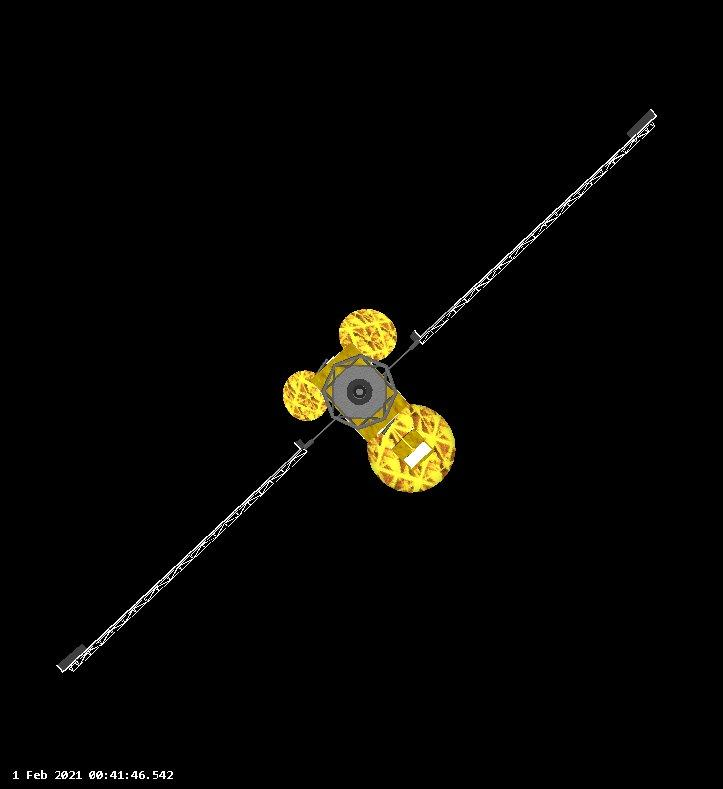antenna: (364, 401, 459, 494), (336, 306, 399, 364), (281, 369, 331, 423)
body: (306, 333, 407, 436)
solar: (52, 435, 313, 677), (408, 106, 660, 349)
thruster: (350, 382, 368, 401)
